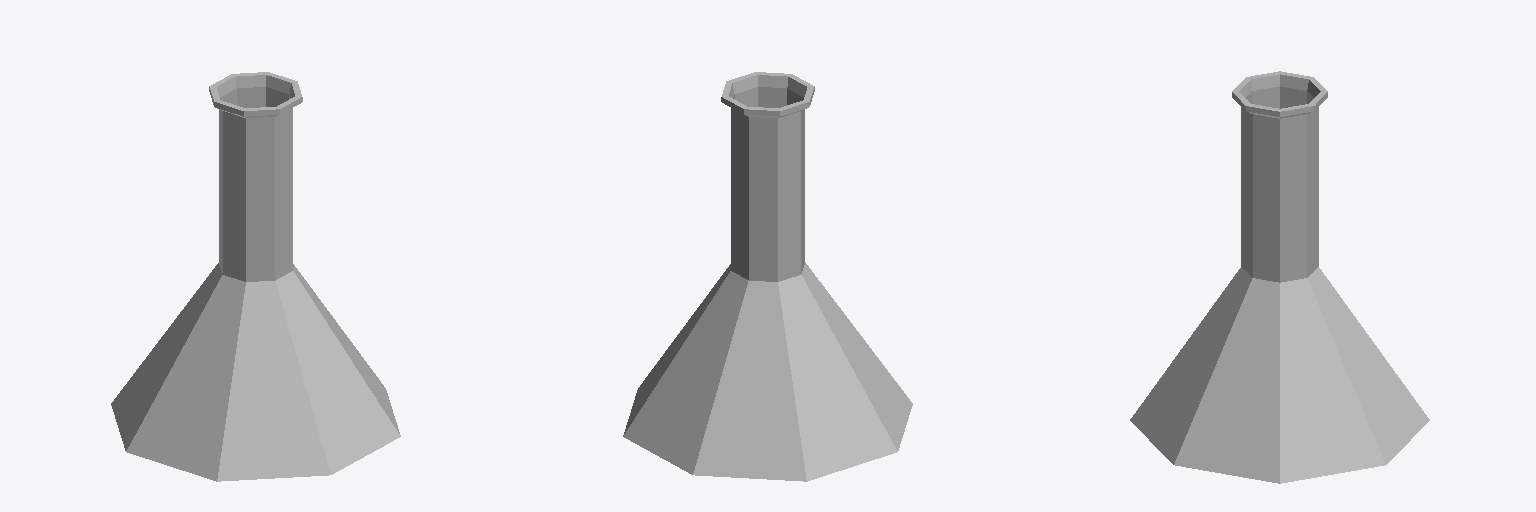
The model's file is Erlenmeyer.obj.
3 renders of one model, left to right at view 1: azimuth 30°, elevation 25°; view 2: azimuth 150°, elevation 25°; view 3: azimuth 270°, elevation 25°, orthographic.
Parts seen in each view (by area): view 1: Mesh1 Component_5_1 Model; view 2: Mesh1 Component_5_1 Model; view 3: Mesh1 Component_5_1 Model.
Boxes of the visible parts, x1,y1,x2,y2 form: Mesh1 Component_5_1 Model: [111, 72, 400, 481]; Mesh1 Component_5_1 Model: [623, 72, 912, 481]; Mesh1 Component_5_1 Model: [1130, 71, 1429, 483].
Bounding box in the file's own units: 0.1696 × 0.2049 × 0.1696.